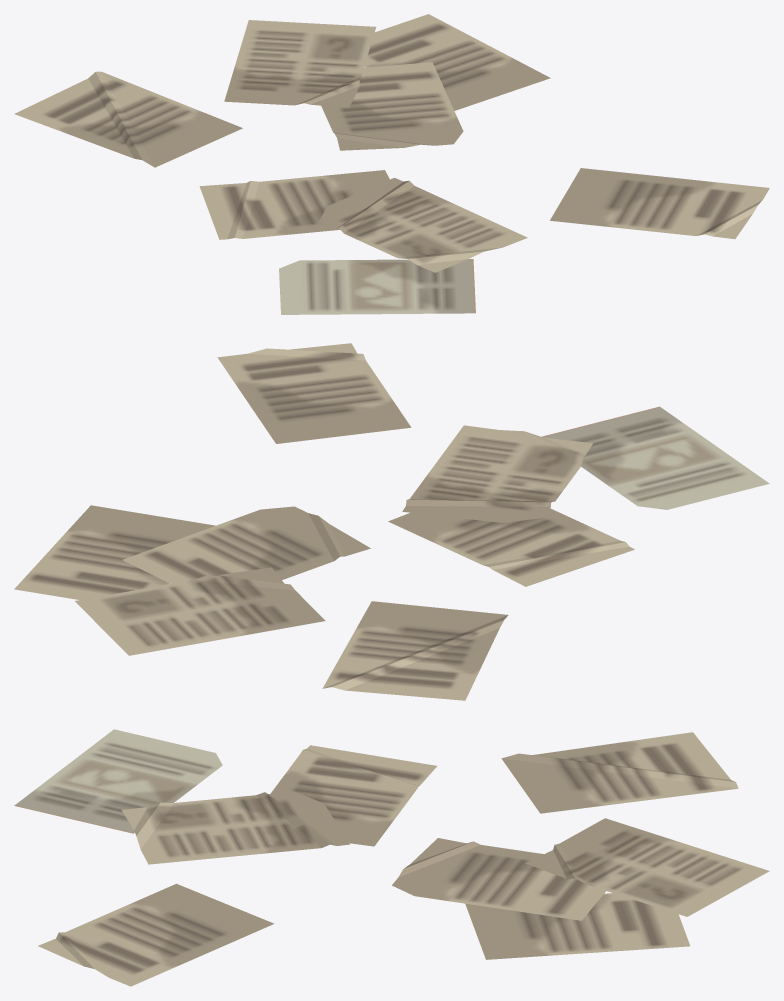
File: SM_Gen_Prop_Papers_02.obj
The picture shows the model from 3 angles, top to bottom: view 1: azimuth 30°, elevation 25°; view 2: azimuth 150°, elevation 25°; view 3: azimuth 270°, elevation 25°; orthographic projection. The views are drawn at different scales.
Parts seen in each view (by area): view 1: SM_Gen_Prop_Papers_02_0; view 2: SM_Gen_Prop_Papers_02_0; view 3: SM_Gen_Prop_Papers_02_0.
Part boxes in pixels (<box>): SM_Gen_Prop_Papers_02_0: <box>14,14,769,314</box>; SM_Gen_Prop_Papers_02_0: <box>14,343,769,700</box>; SM_Gen_Prop_Papers_02_0: <box>14,729,769,986</box>.
Bounding box in the file's own units: 0.9924 × 0.00711 × 1.23.
1 material, 1 textured.
